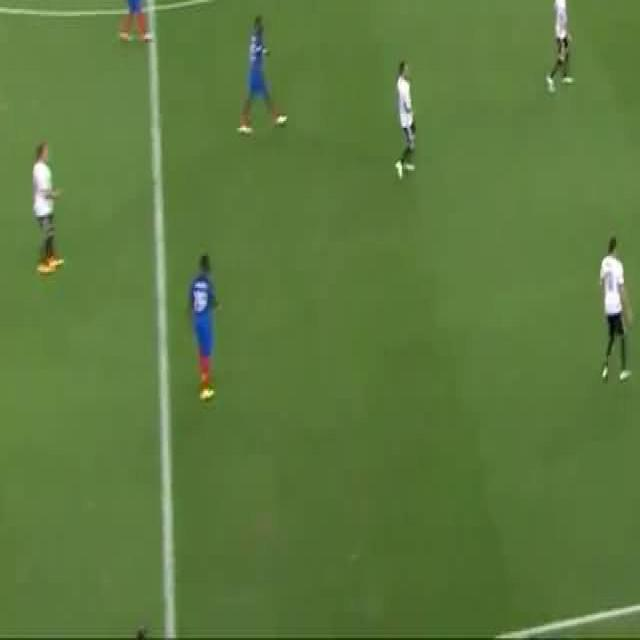player-white: (237, 16, 287, 136), (598, 236, 632, 384), (189, 253, 219, 404), (34, 142, 63, 274), (394, 59, 417, 181), (546, 0, 573, 94), (120, 0, 151, 42)
